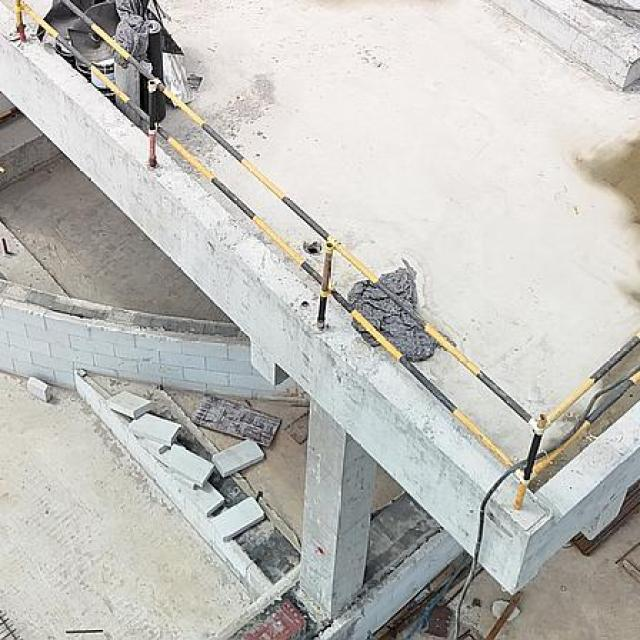edge_guardrail: (14, 0, 639, 511)
